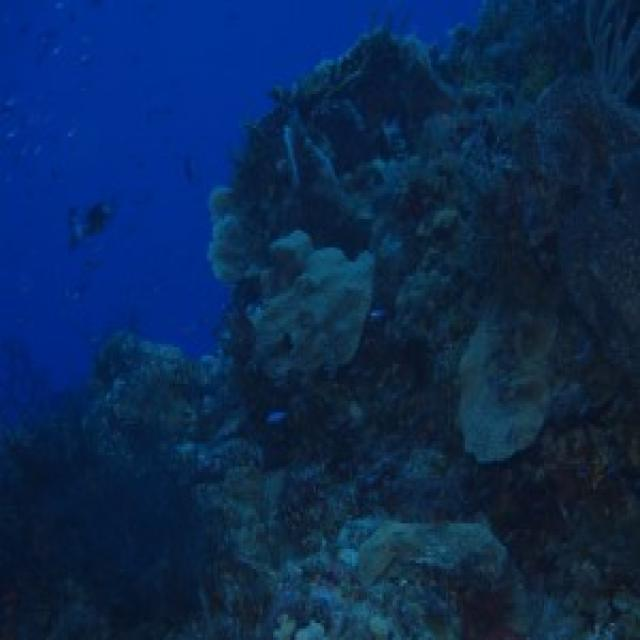Healthy: (221, 1, 590, 334), (1, 337, 223, 638), (536, 1, 639, 394), (248, 231, 374, 379), (458, 308, 556, 462)
